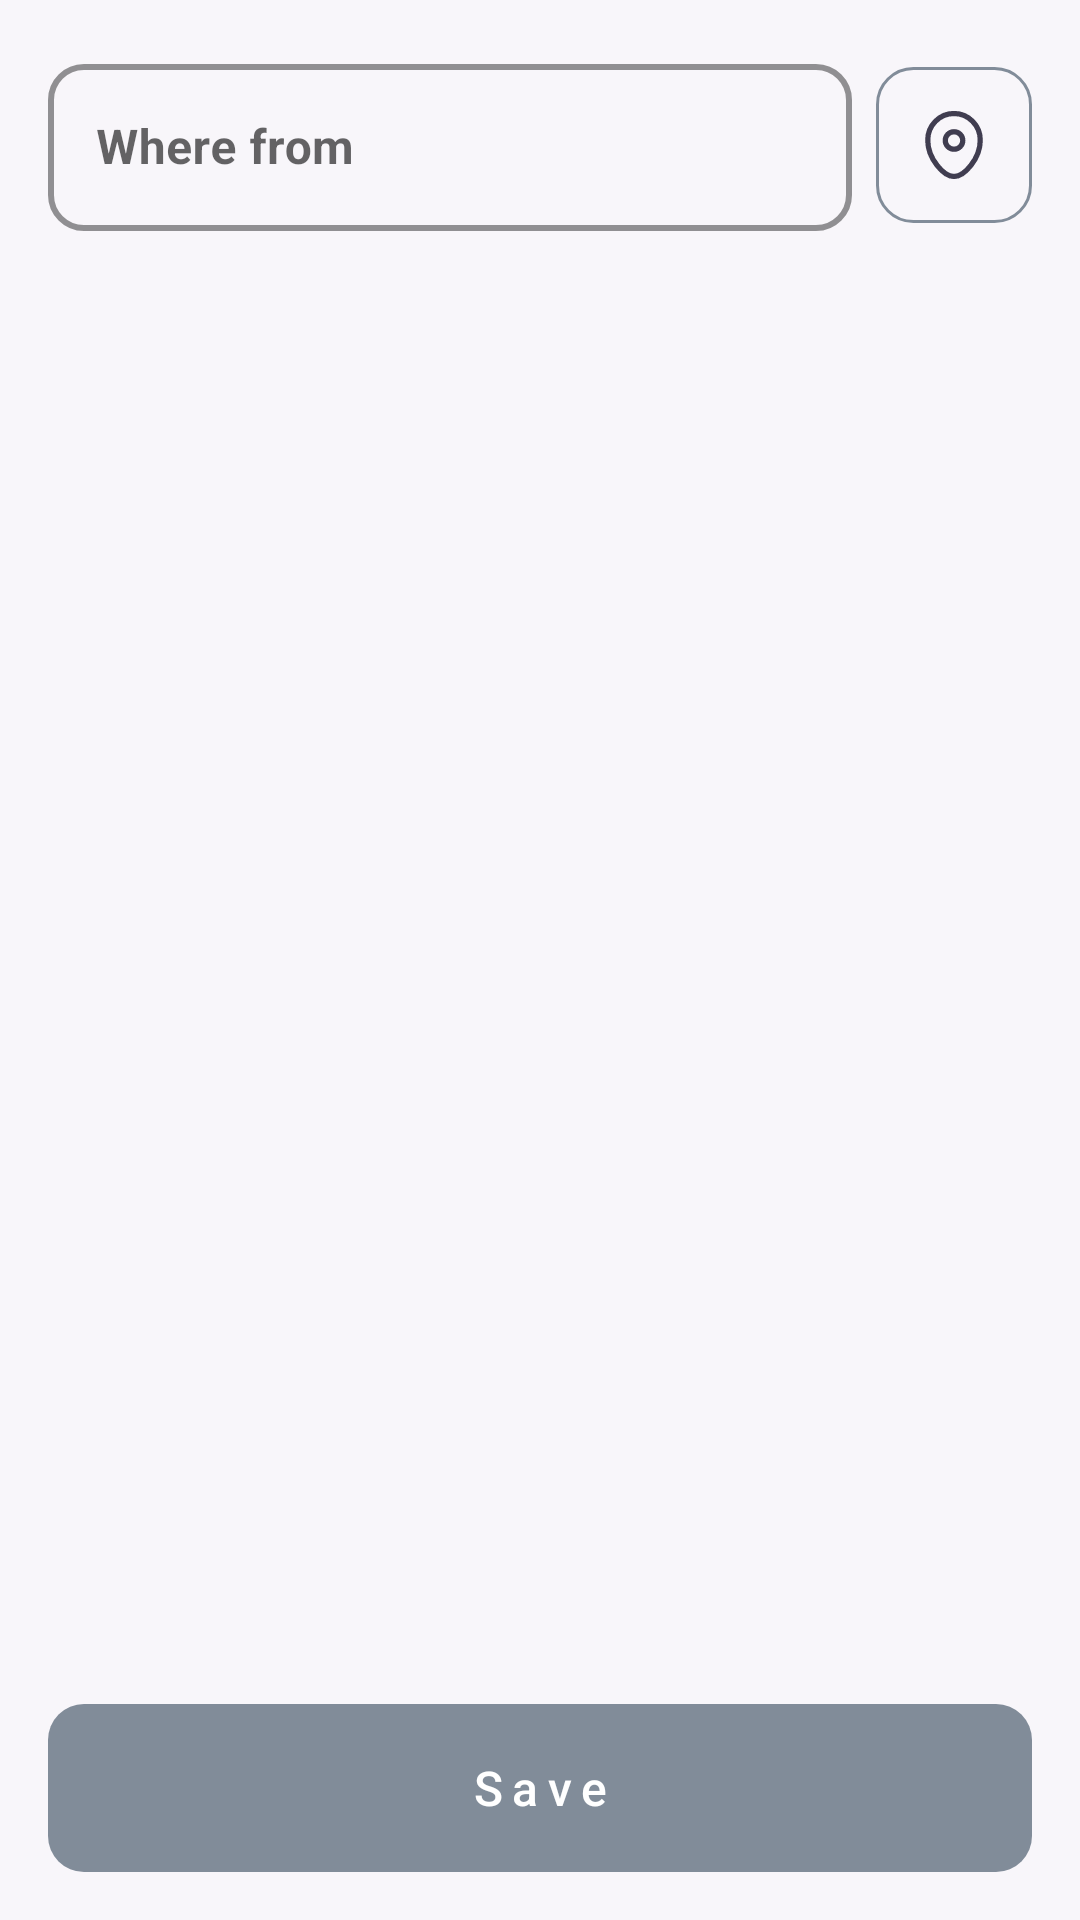

Where to tap for icons on this 1080 x 1920 app screen, as point (x, y):
location: point (954, 145)
